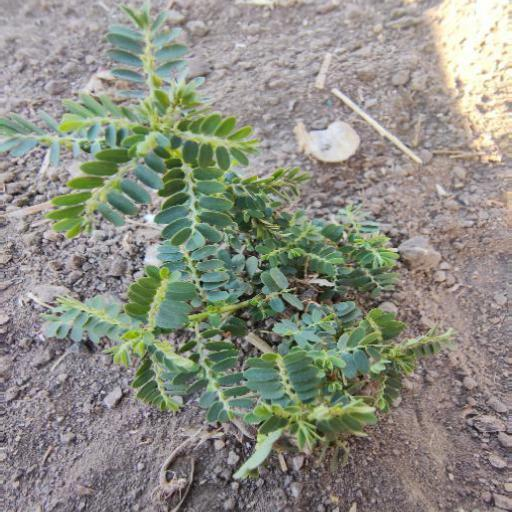weed: (35, 37, 438, 452)
